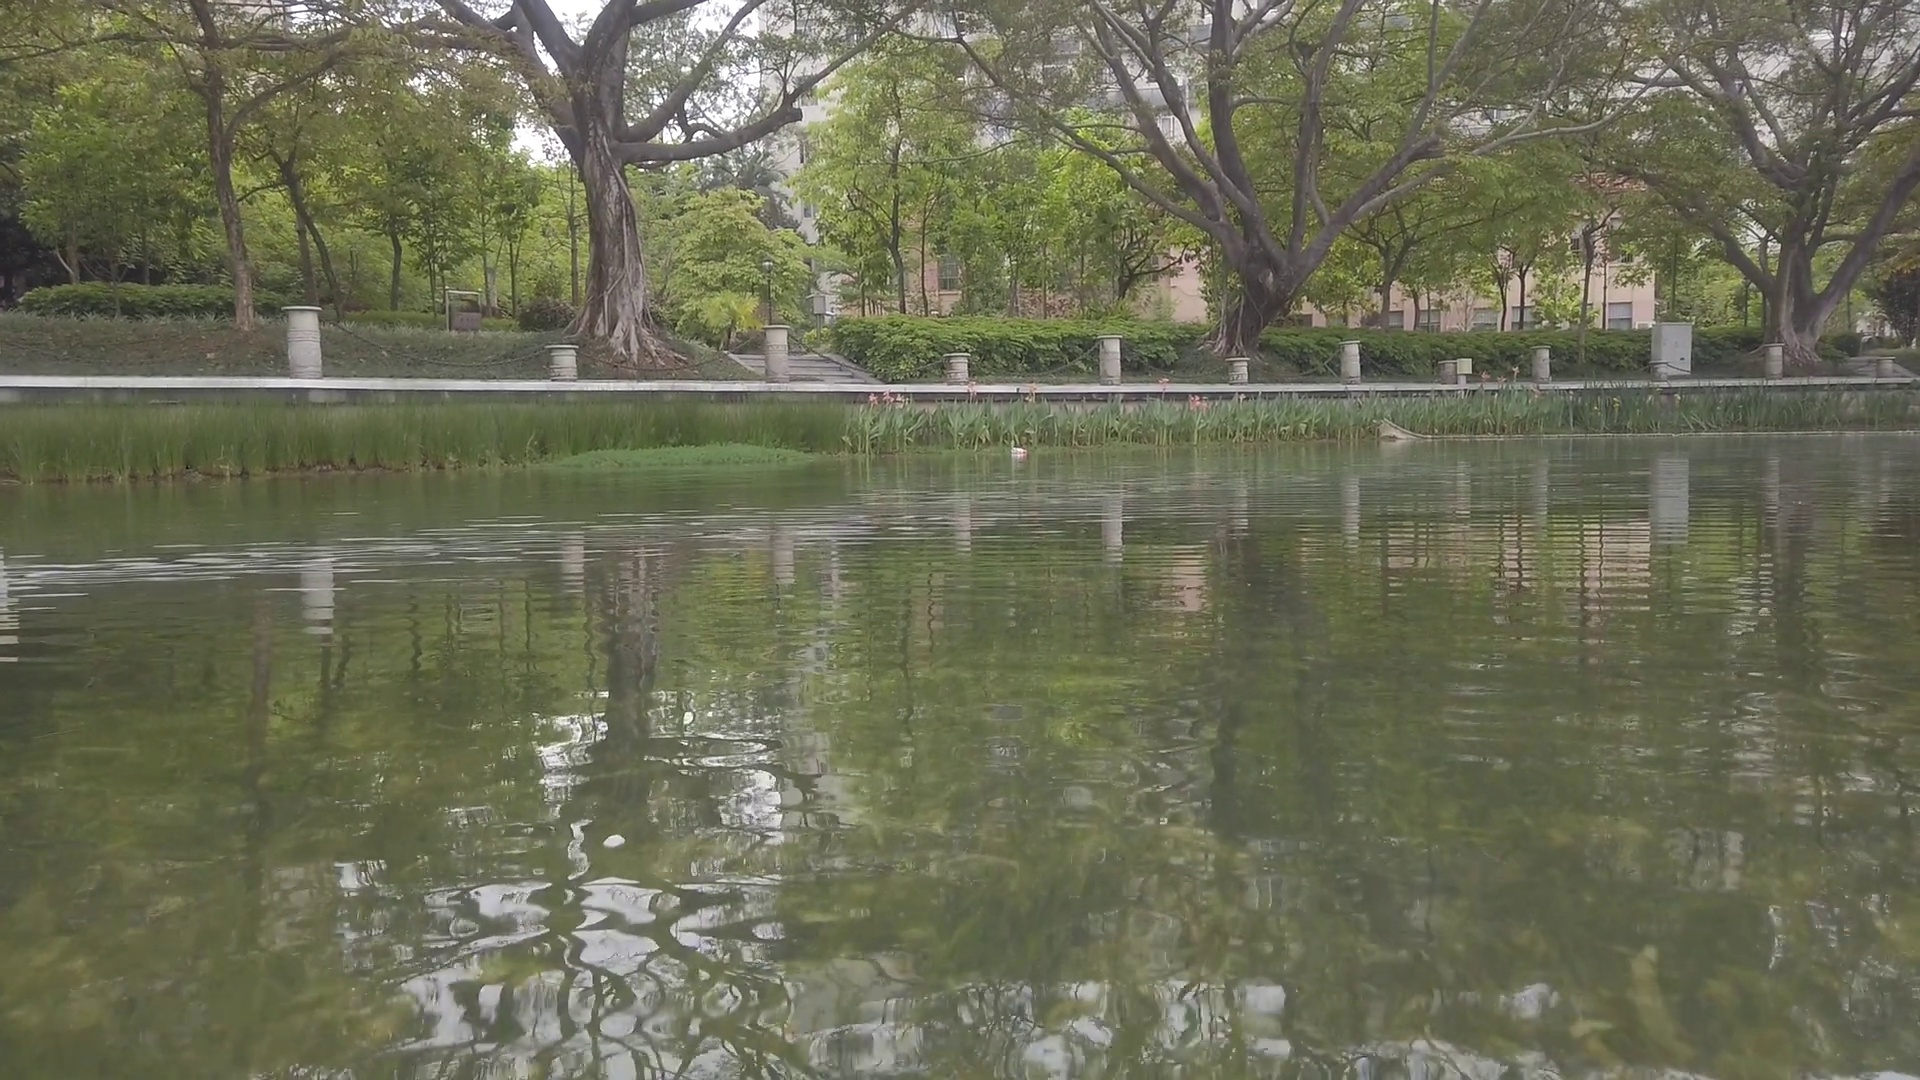bottle: (1011, 448, 1029, 455)
